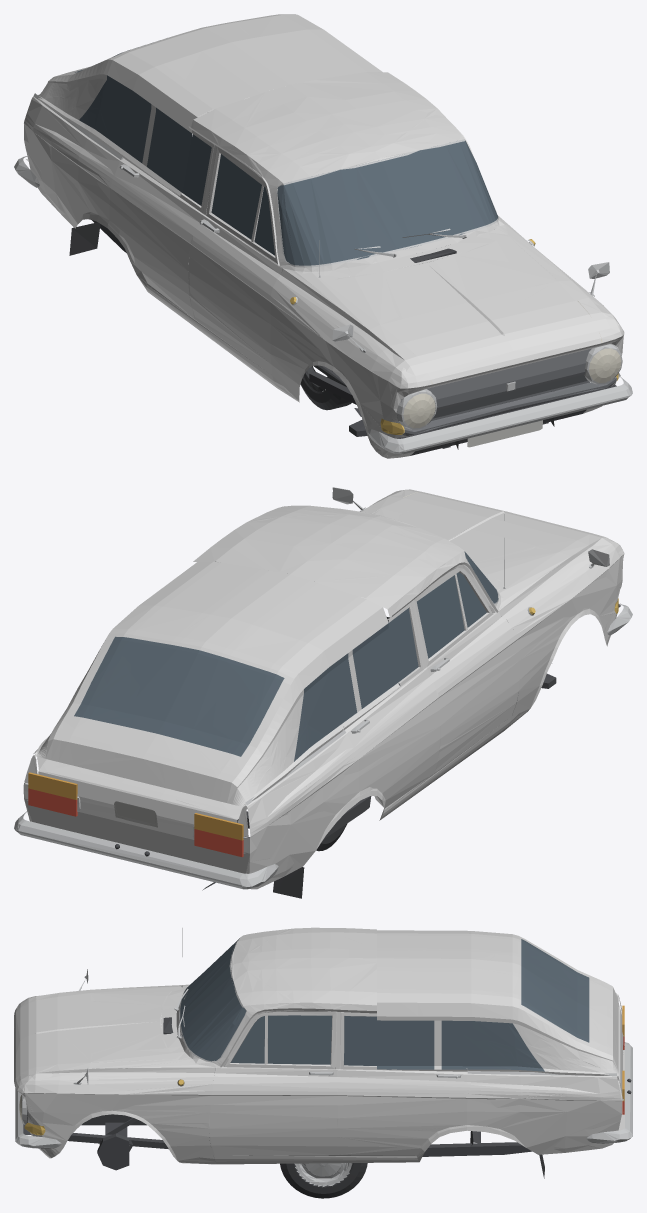
Rendered from kombi.glb.
3 renders of one model, top to bottom at view 1: azimuth 30°, elevation 25°; view 2: azimuth 150°, elevation 25°; view 3: azimuth 270°, elevation 25°, orthographic. The views are drawn at different scales.
Parts seen in each view (by area): view 1: paint, detail, lo-paint, lo-detail, lights, wheel; view 2: paint, lo-paint, detail, lo-detail, lights; view 3: paint, lo-paint, detail, lo-detail, wheel, lo-wheel, lights.
Boxes of the visible parts, x1=… form: paint: x1=24, y1=14, x2=624, y2=458; detail: x1=14, y1=50, x2=632, y2=455; lo-paint: x1=24, y1=15, x2=623, y2=458; lo-detail: x1=15, y1=69, x2=616, y2=451; lights: x1=290, y1=239, x2=621, y2=434; wheel: x1=300, y1=366, x2=351, y2=410; paint: x1=23, y1=489, x2=624, y2=889; lo-paint: x1=24, y1=490, x2=622, y2=888; detail: x1=14, y1=487, x2=632, y2=898; lo-detail: x1=17, y1=551, x2=631, y2=886; lights: x1=28, y1=492, x2=618, y2=857; paint: x1=14, y1=927, x2=624, y2=1164; lo-paint: x1=14, y1=928, x2=622, y2=1164; detail: x1=15, y1=928, x2=632, y2=1178; lo-detail: x1=20, y1=938, x2=632, y2=1156; wheel: x1=280, y1=1163, x2=364, y2=1198; lo-wheel: x1=281, y1=1163, x2=367, y2=1198; lights: x1=15, y1=1005, x2=624, y2=1135.
Size of the model in its own units: 1.74 by 1.77 by 4.2.
